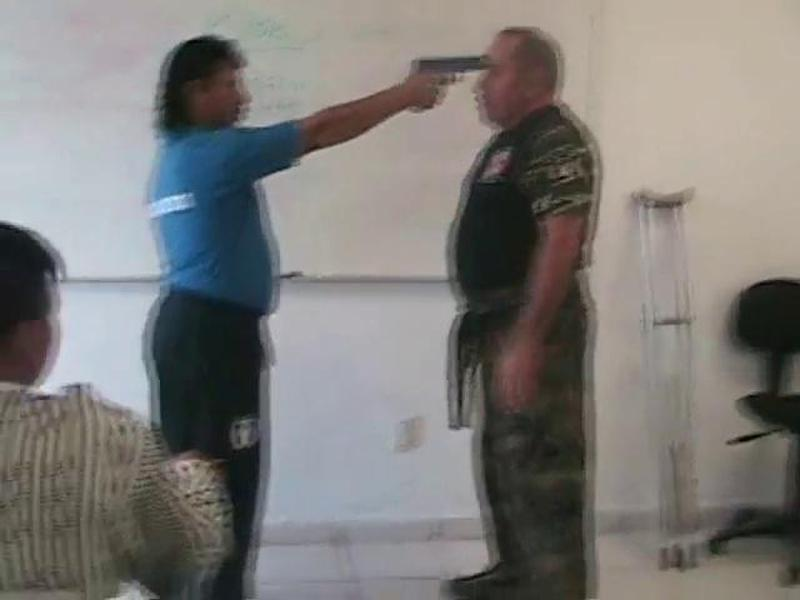Pistola: (397, 44, 489, 127)
